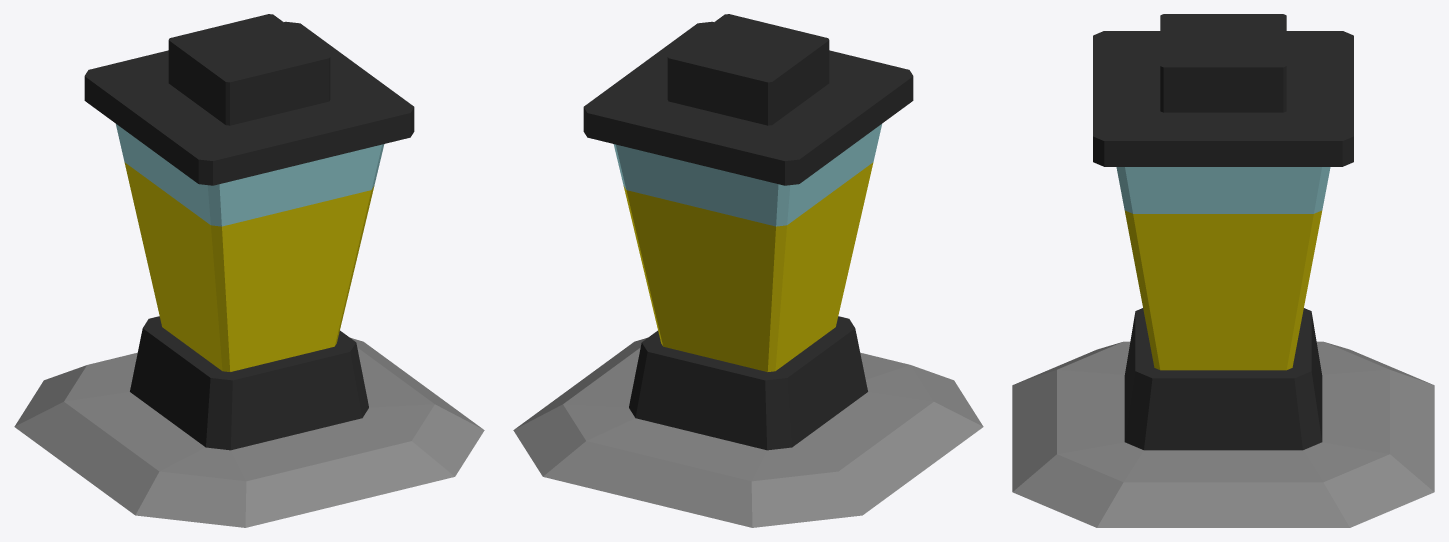
File: Blender.fbx
3 views of the same model, side by side, from view 1: azimuth 30°, elevation 25°; view 2: azimuth 150°, elevation 25°; view 3: azimuth 270°, elevation 25° (orthographic). The views are drawn at different scales.
Parts seen in each view (by area): view 1: Blender; view 2: Blender; view 3: Blender.
Part boxes in pixels (x1,y1,x2,y2): Blender: (14,14,484,527); Blender: (513,14,983,527); Blender: (1012,14,1434,527).
Bounding box in the file's own units: 160 × 166 × 160.
